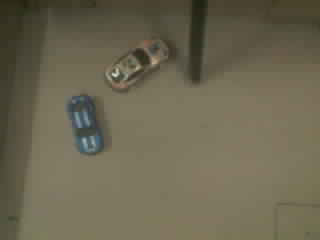Car: (106, 39, 168, 89), (67, 95, 102, 154)
